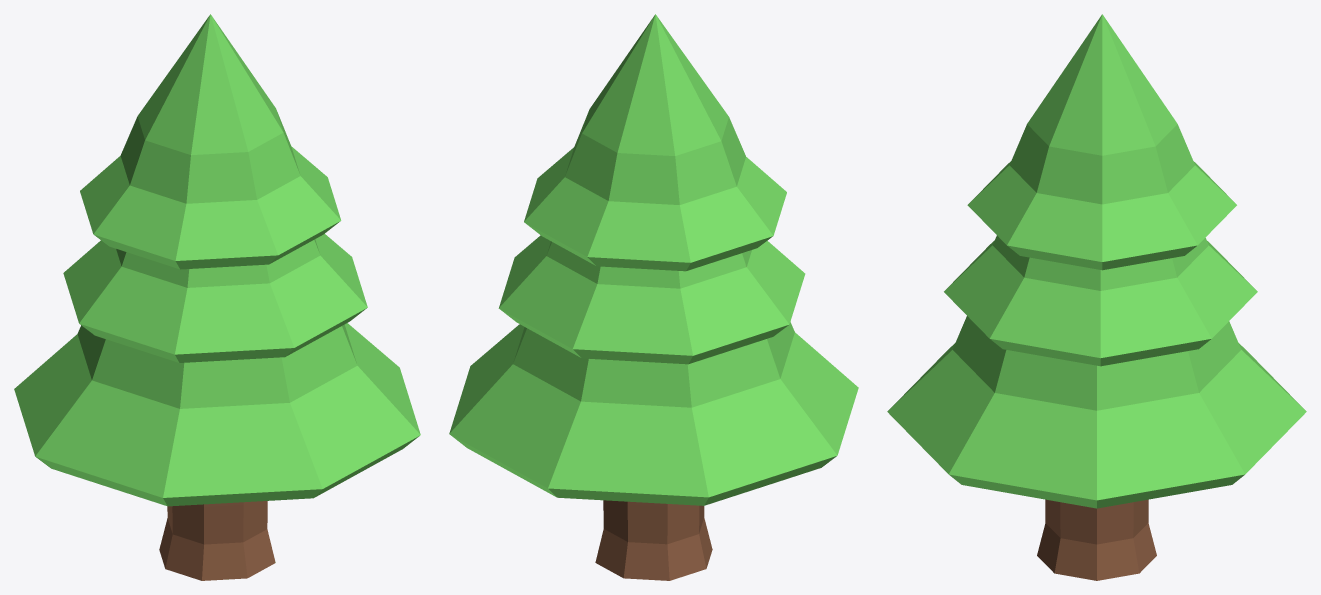
File: TREE #5.fbx
The picture shows the model from 3 angles, left to right: view 1: azimuth 30°, elevation 25°; view 2: azimuth 150°, elevation 25°; view 3: azimuth 270°, elevation 25°; orthographic projection.
Visible parts, largest first — view 1: five; view 2: five; view 3: five.
Boxes of the visible parts, x1,y1,x2,y2 form: five: (14,14,420,580); five: (449,14,858,580); five: (887,14,1306,580).
Size of the model in its own units: 353 by 501 by 353.
Materials: 1 (1 with a texture image).
